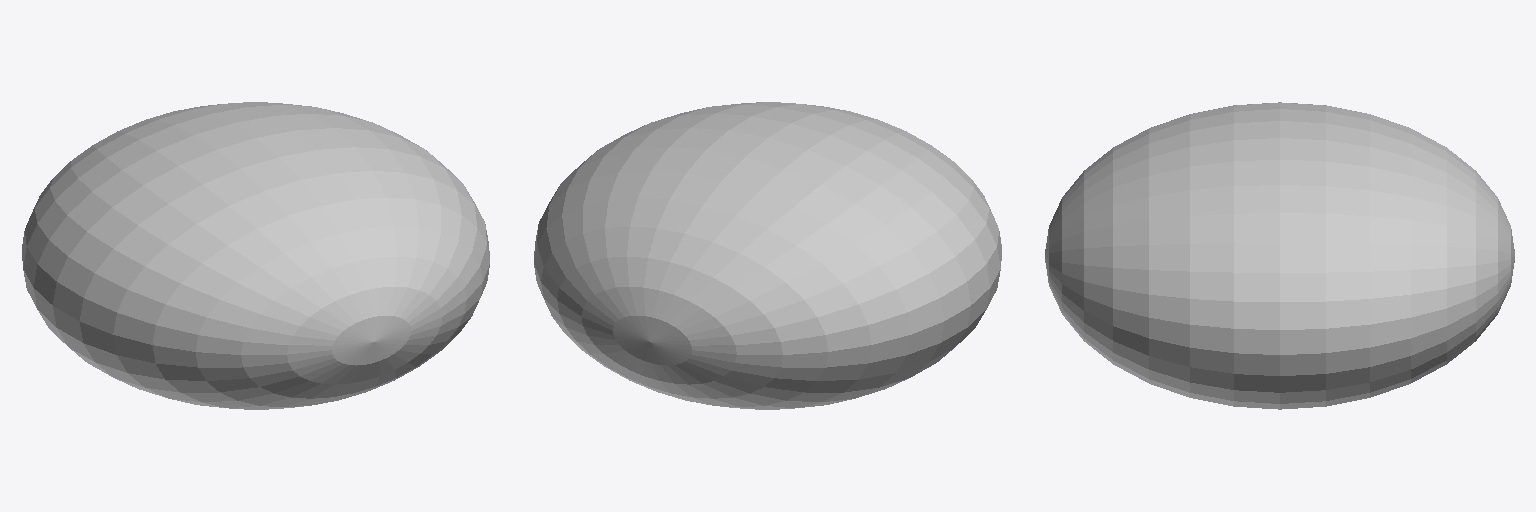
The model's file is powerup.obj.
The picture shows the model from 3 angles: view 1: azimuth 30°, elevation 25°; view 2: azimuth 150°, elevation 25°; view 3: azimuth 270°, elevation 25°; orthographic projection.
Parts seen in each view (by area): view 1: Sphere; view 2: Sphere; view 3: Sphere.
Part boxes in pixels (bbox=[...]): Sphere: bbox=[22, 102, 489, 409]; Sphere: bbox=[534, 102, 1001, 409]; Sphere: bbox=[1045, 102, 1514, 409].
Bounding box in the file's own units: 0.4849 × 0.2691 × 0.4865.